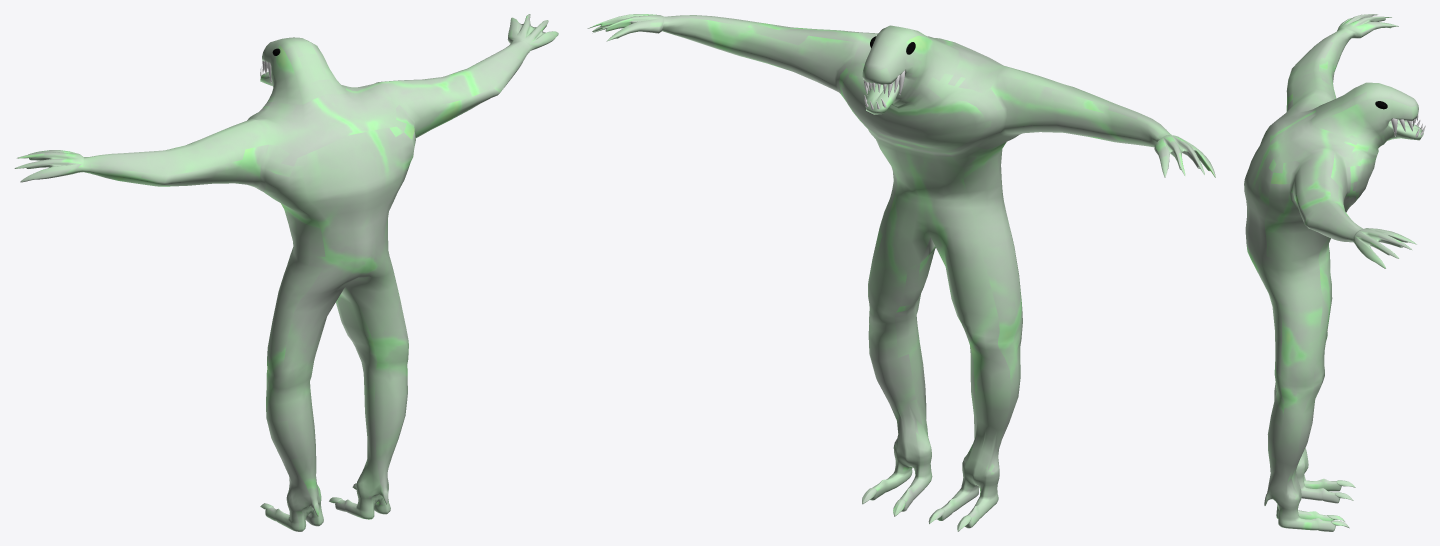
Rendered from Berserkeraranar.0010.obj.
The picture shows the model from 3 angles, left to right: view 1: azimuth 30°, elevation 25°; view 2: azimuth 150°, elevation 25°; view 3: azimuth 270°, elevation 25°; orthographic projection. The views are drawn at different scales.
Parts seen in each view (by area): view 1: polySurface27; view 2: polySurface27; view 3: polySurface27.
Part boxes in pixels (x1,y1,x2,y2): polySurface27: (14,14,558,531); polySurface27: (587,14,1215,531); polySurface27: (1244,14,1425,531).
Size of the model in its own units: 30.48 by 24.11 by 9.24.
1 material, 1 textured.
